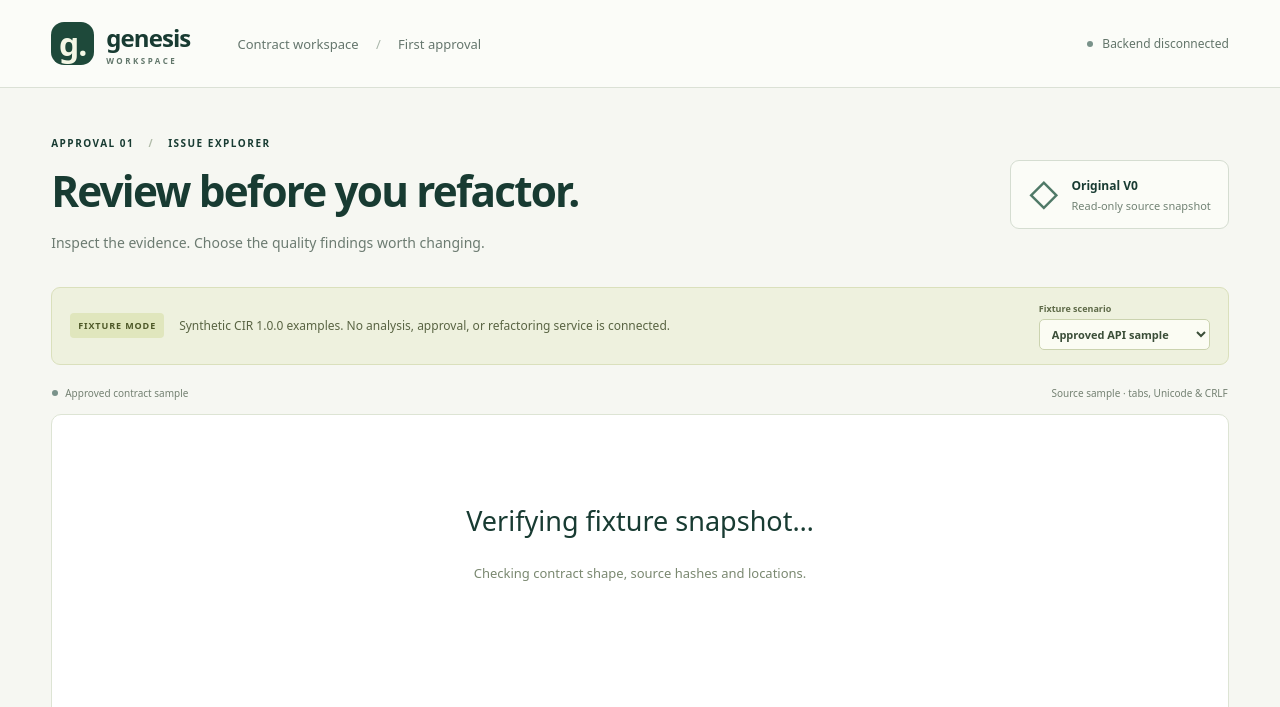
Test: first approval fixture UI › ignores a late response from a previous scenario
Step 1. Select "UI coverage cases" in the dropdown labelled "Fixture scenario" → {"x": 1124, "y": 334}, box [1039,319,1210,350]
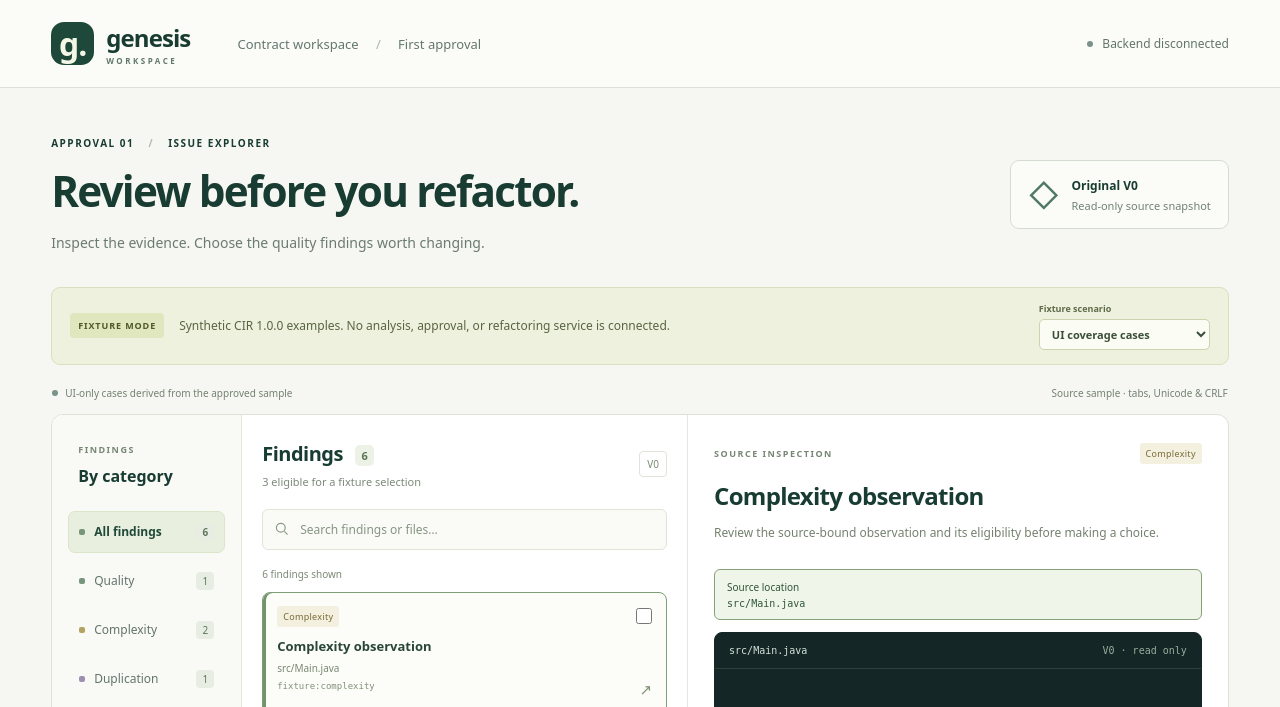
Check: the number of checkboxes is 6
